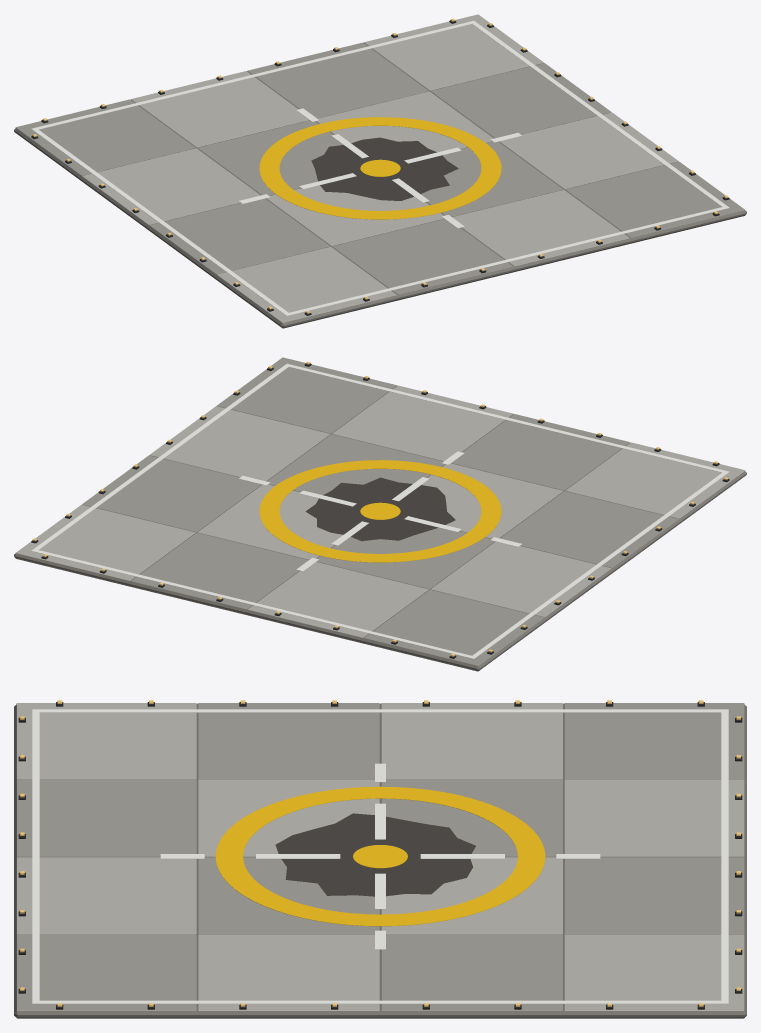
File: LandingPad.fbx
3 views of the same model, one above another, from view 1: azimuth 30°, elevation 25°; view 2: azimuth 150°, elevation 25°; view 3: azimuth 270°, elevation 25° (orthographic). The views are drawn at different scales.
Visible parts, largest first — view 1: LandingPad; view 2: LandingPad; view 3: LandingPad.
Part boxes in pixels (x1,y1,x2,y2): LandingPad: (14, 14, 746, 328); LandingPad: (14, 357, 746, 671); LandingPad: (14, 700, 746, 1018).
Bounding box in the file's own units: 40 × 0.75 × 40.
